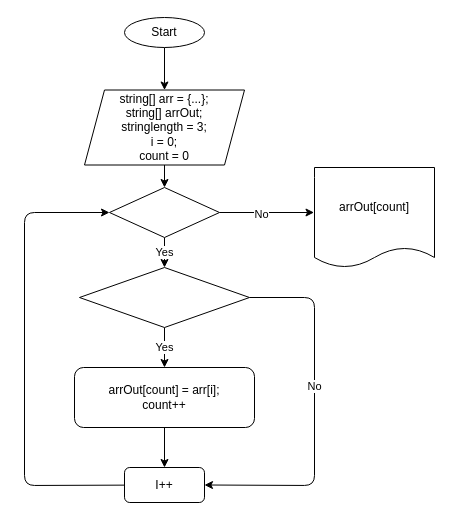
The diagram is 452 pixels wide and 520 high, and some of its shapes have lost their labels. The centre of each missing label's shape, as x and y in pixels:
"arr[i].Length <= stringlength" goes at (164,297).
"i<arr.Length" goes at (164,212).
